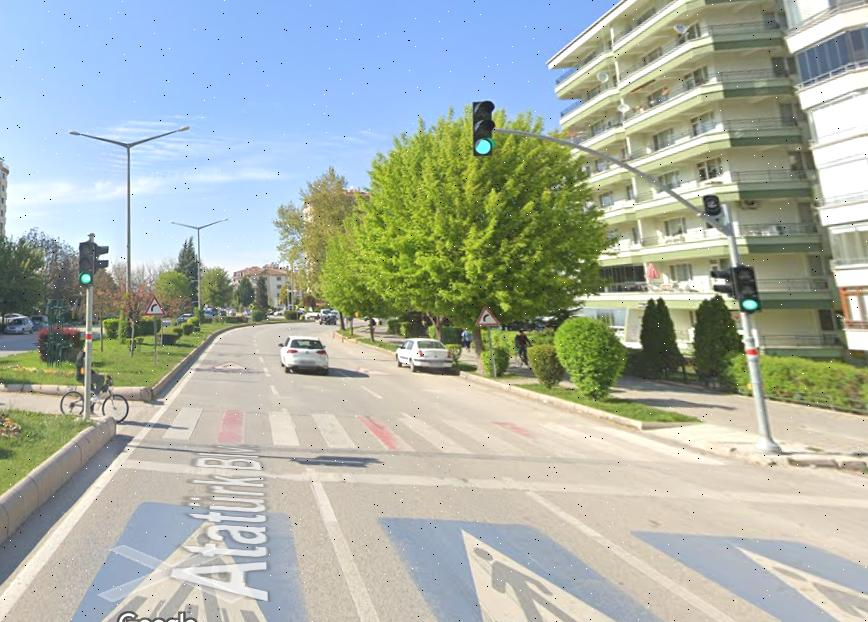greenlight: (735, 267, 760, 315), (472, 100, 493, 153), (78, 242, 92, 283)
